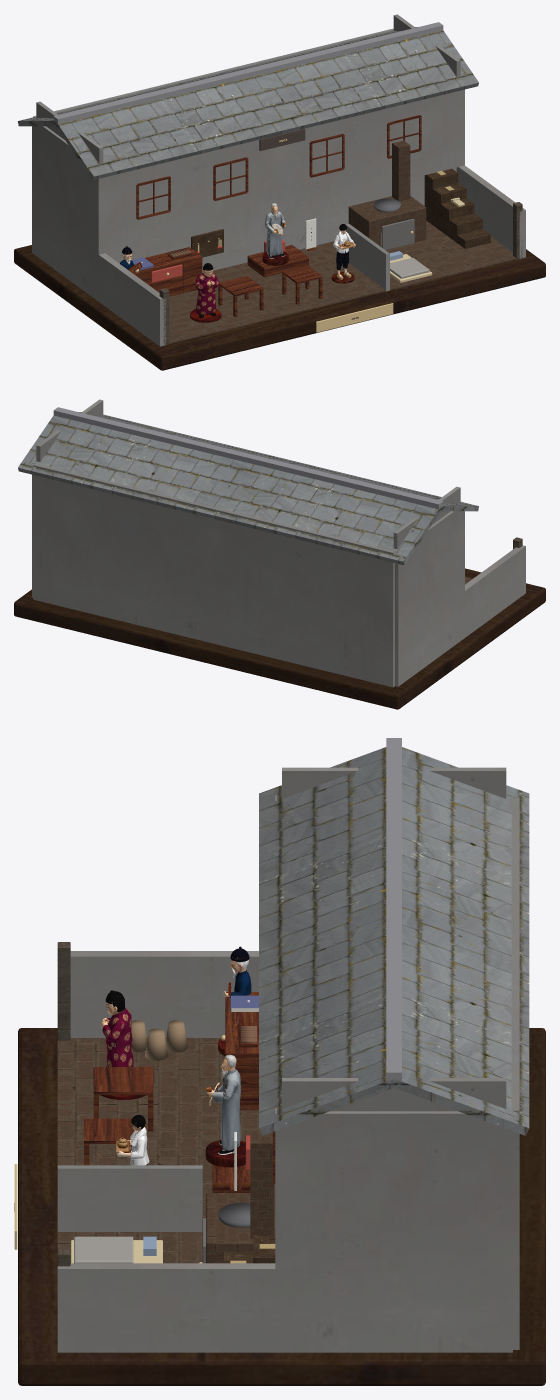
The model's file is case_inn.glb.
3 renders of one model, top to bottom at view 1: azimuth 30°, elevation 25°; view 2: azimuth 150°, elevation 25°; view 3: azimuth 270°, elevation 25°, orthographic. The views are drawn at different scales.
Visible parts, largest first — view 1: roof_f, lid_front, display_board, wall_l_back, floor_l, platform, roof_ridge, wall_l_front, floor_r, wall_r_front, part_front, roof_b (+27 smaller); view 2: wall_back, roof_b, display_board, wall_l_back, roof_ridge, wall_l_front, roof_f, gable_l, gable_r; view 3: wall_r_back, roof_f, roof_b, display_board, wall_r_front, floor_l, wall_l_front, part_front, roof_ridge, wall_back, gable_r, gable_l (+15 smaller).
Part boxes in pixels (x1,y1,x2,y2): roof_f: (55,30,478,179); lid_front: (105,91,458,252); display_board: (14,245,545,370); wall_l_back: (32,118,105,301); floor_l: (166,243,385,344); platform: (105,167,456,272); roof_ridge: (53,22,443,125); wall_l_front: (97,253,166,346); floor_r: (325,221,519,290); wall_r_front: (456,165,525,258); part_front: (345,224,389,291); roof_b: (18,27,417,126); wall_back: (33,464,394,687); roof_b: (18,415,441,565); display_board: (14,568,545,709); wall_l_back: (395,502,464,686); roof_ridge: (53,407,443,509); wall_l_front: (463,545,525,637); roof_f: (79,412,478,511); gable_l: (393,486,460,549); gable_r: (36,399,103,461); wall_r_back: (275,1108,512,1352); roof_f: (259,747,396,1135); roof_b: (391,747,529,1135); display_board: (18,1028,545,1385); wall_r_front: (57,1263,281,1352); floor_l: (57,1038,275,1218); wall_l_front: (70,951,258,1037); part_front: (57,1165,202,1231); roof_ridge: (386,738,401,1087); wall_back: (511,798,519,1349); gable_r: (282,1078,506,1111); gable_l: (282,767,506,798).
Size of the model in its own units: 0.6 by 0.263 by 0.403.
Materials: 38 (15 with a texture image).
